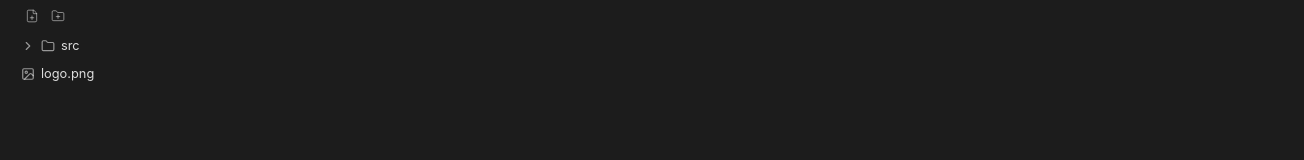
Test: FileTree › expands a folder lazily and shows the Git badge
Click the list item "src". click: (28,46)
box: [12,32,1292,60]
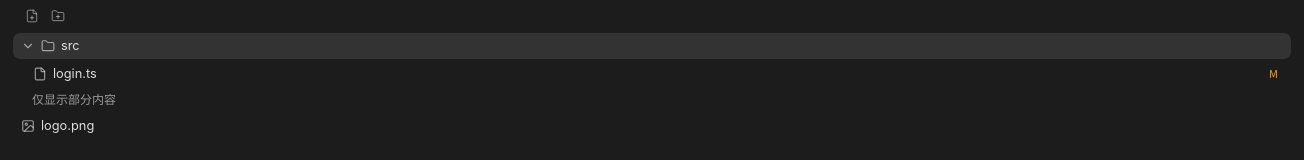
Expected: the text "login.ts" is shown, [53,65,97,83]
Expected: the icon titled "已修改" reads "M", [1269,65,1278,81]
Expected: the message "仅显示部分内容" is shown, [32,92,116,107]
